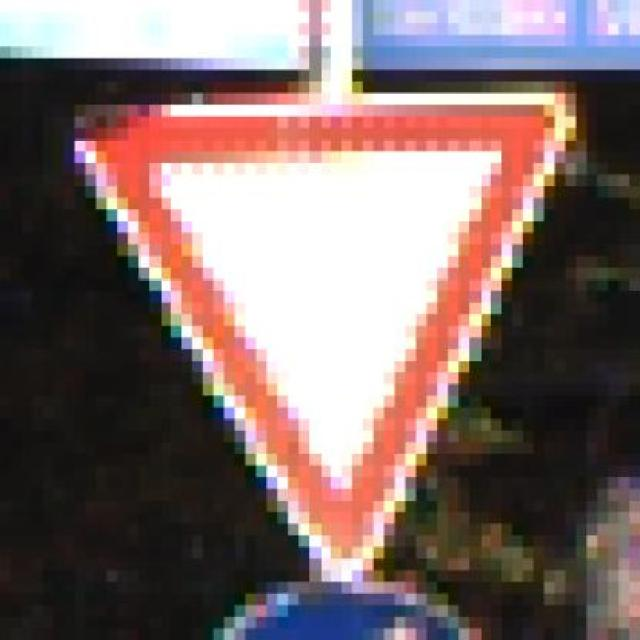Give Way: (42, 93, 598, 593)
